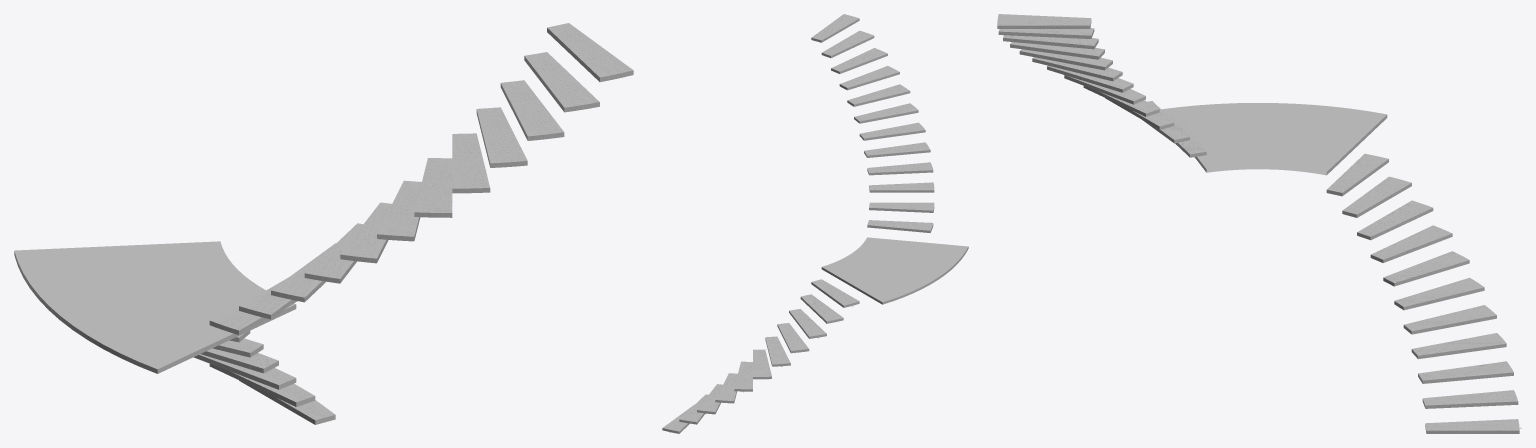
The model's file is Stairs.dae.
3 views of the same model, side by side, from view 1: azimuth 30°, elevation 25°; view 2: azimuth 150°, elevation 25°; view 3: azimuth 270°, elevation 25° (orthographic). The views are drawn at different scales.
Parts seen in each view (by area): view 1: SketchUp (×17); view 2: SketchUp (×24); view 3: SketchUp (×22).
Part boxes in pixels (left/top/right/bottom): SketchUp (×17): left=14, top=23, right=633, bottom=424; SketchUp (×24): left=662, top=14, right=968, bottom=433; SketchUp (×22): left=997, top=14, right=1519, bottom=433.
Size of the model in its own units: 134 by 221 by 190.
2 materials, 1 textured.
